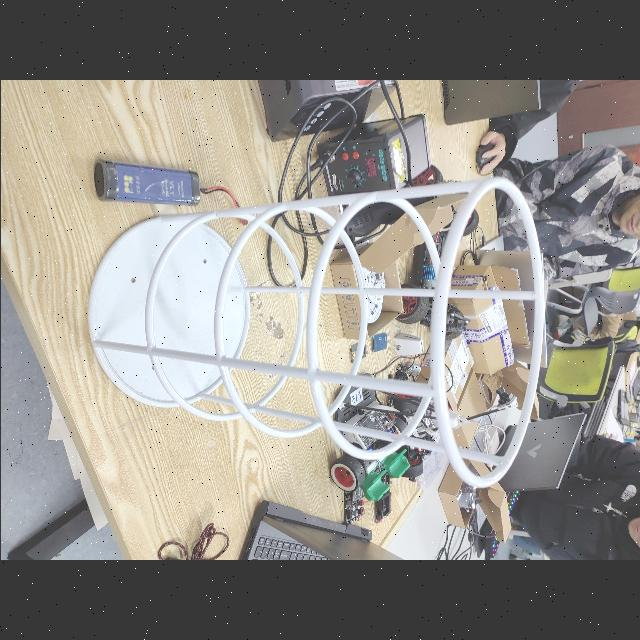S: (79, 172, 554, 492)
